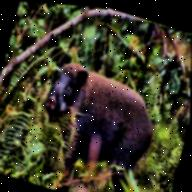boar: (28, 37, 181, 192)
